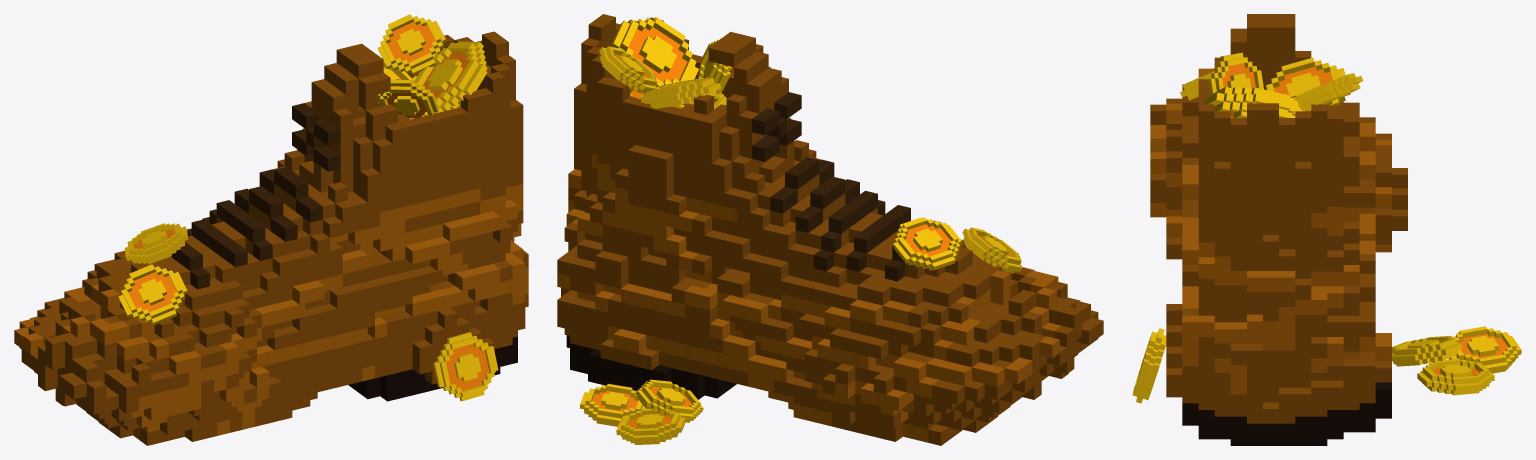
The model's file is Boot.fbx.
3 views of the same model, side by side, from view 1: azimuth 30°, elevation 25°; view 2: azimuth 150°, elevation 25°; view 3: azimuth 270°, elevation 25° (orthographic). The views are drawn at different scales.
Parts seen in each view (by area): view 1: Untitled; view 2: Untitled; view 3: Untitled.
Boxes of the visible parts, x1,y1,x2,y2 form: Untitled: [14, 14, 528, 445]; Untitled: [557, 14, 1103, 445]; Untitled: [1132, 14, 1521, 445].
Size of the model in its own units: 380 by 241 by 242.
